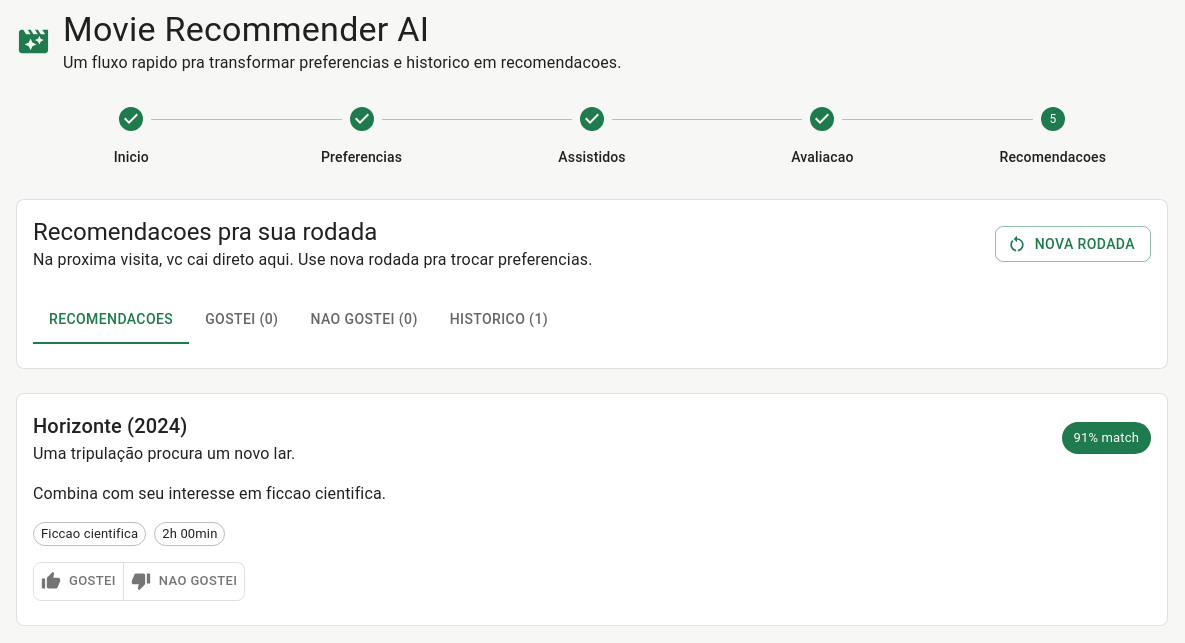
Test: recommendation journey › when submitting feedback › updates the visible result with CSRF protection
The image size is (1185, 643).
Expected: the heading "Horizonte (2024)" is shown, [33,414,188,438]
Step 1. Click the button with aria-label "Gostei de Horizonte" → (78, 581), box [33,562,124,601]
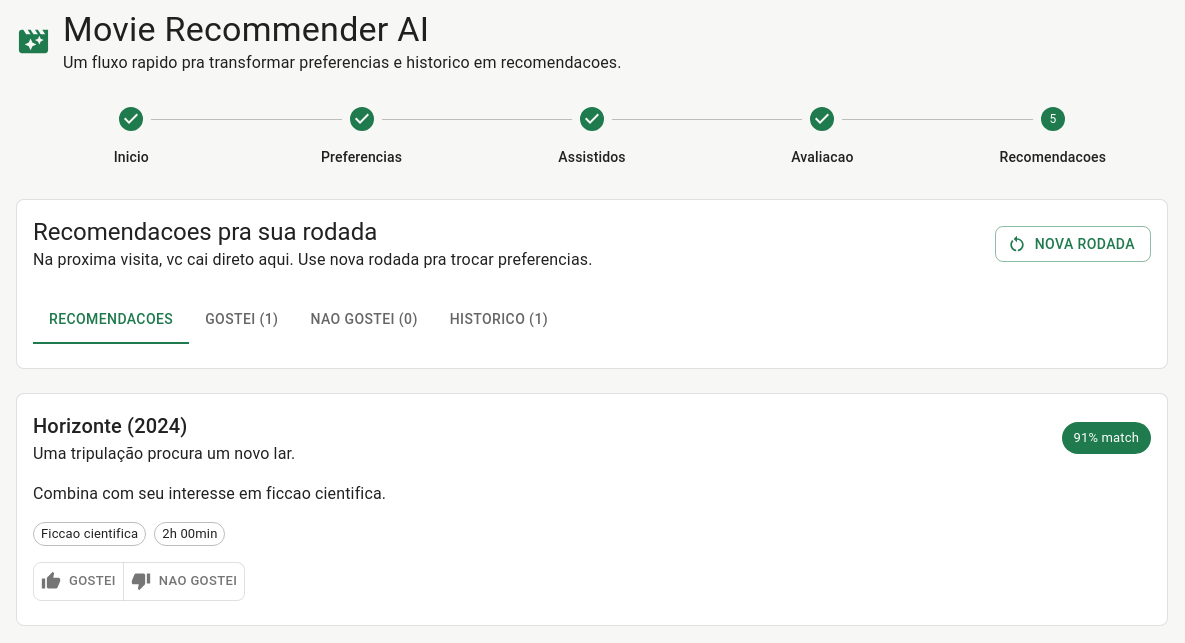
Expected: the tab "Gostei (1)" is shown, [189,296,294,344]
